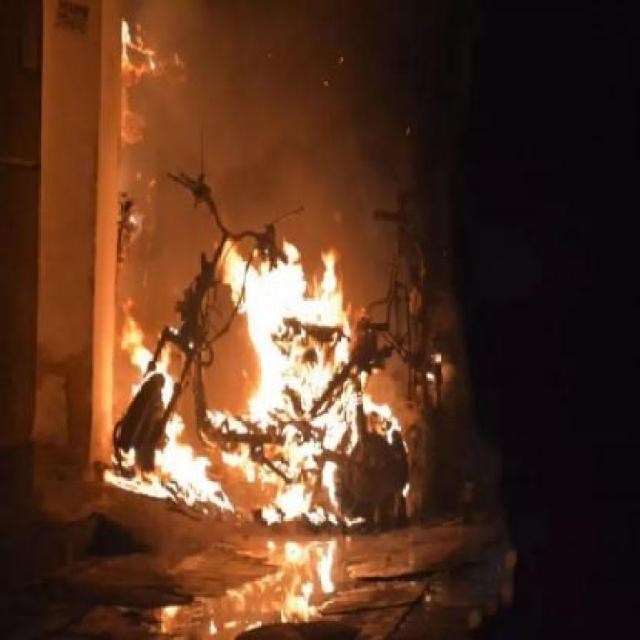Fire: (228, 239, 396, 533), (106, 416, 228, 509), (119, 14, 159, 148), (121, 300, 170, 376)
Smoke: (156, 9, 424, 242)
